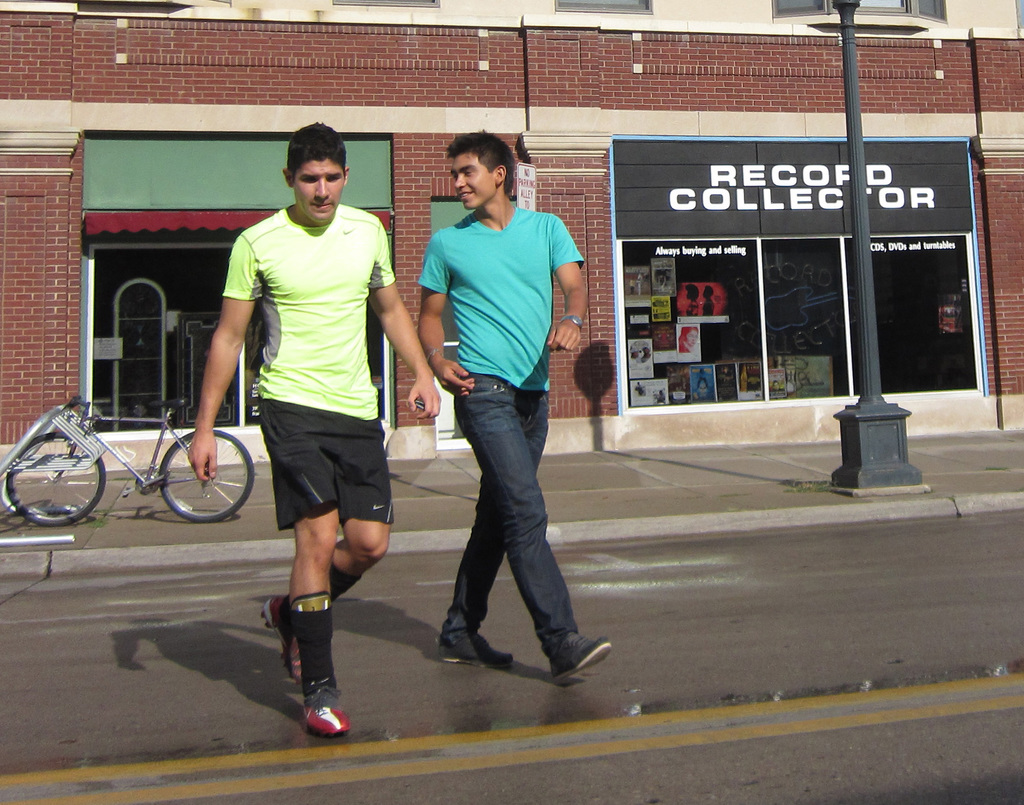bicycle: (3, 394, 263, 531)
